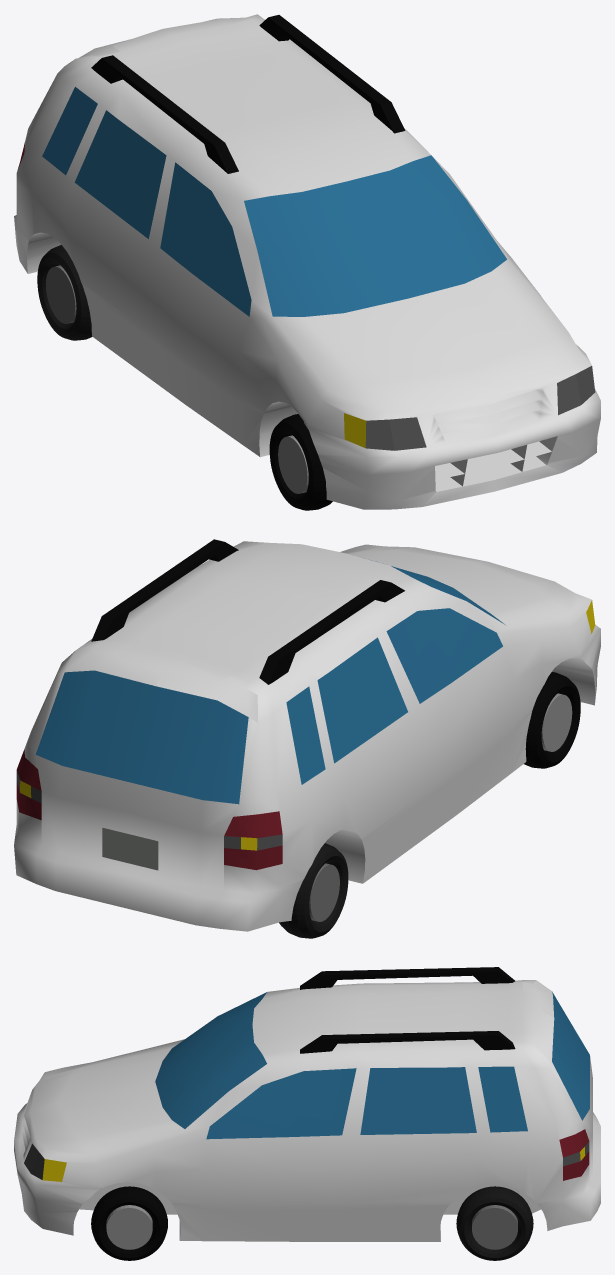
3 renders of one model, top to bottom at view 1: azimuth 30°, elevation 25°; view 2: azimuth 150°, elevation 25°; view 3: azimuth 270°, elevation 25°, orthographic. The views are drawn at different scales.
Visible parts, largest first — view 1: Body, Window, RoofRail, HeadLight, TFRT, TRRT, TFRC, TRRC; view 2: Body, Window, RoofRail, BLOFF, TFRT, TRRT, Plane.001, TFRC, TRRC, TailLight; view 3: Body, Window, RoofRail, TFLT, TRLT, TFLC, TRLC, BLOFF, WLLON, HeadLight.
Part boxes in pixels (<box>): Body: <box>14,14,600,509</box>; Window: <box>42,87,506,316</box>; RoofRail: <box>91,15,405,173</box>; HeadLight: <box>365,366,595,450</box>; TFRT: <box>269,414,332,510</box>; TRRT: <box>37,245,92,340</box>; TFRC: <box>278,435,308,493</box>; TRRC: <box>45,265,76,323</box>; Body: <box>14,541,600,931</box>; Window: <box>35,560,504,804</box>; RoofRail: <box>91,539,404,684</box>; BLOFF: <box>16,750,282,870</box>; TFRT: <box>524,672,580,768</box>; TRRT: <box>279,843,348,938</box>; Plane.001: <box>102,827,158,870</box>; TFRC: <box>541,693,572,751</box>; TRRC: <box>309,863,339,921</box>; TailLight: <box>16,770,282,850</box>; Body: <box>14,980,600,1241</box>; Window: <box>155,991,589,1139</box>; RoofRail: <box>300,967,515,1053</box>; TFLT: <box>91,1186,167,1260</box>; TRLT: <box>456,1186,533,1260</box>; TFLC: <box>106,1205,152,1249</box>; TRLC: <box>472,1205,517,1249</box>; BLOFF: <box>559,1129,589,1180</box>; WLLON: <box>42,1147,585,1181</box>; HeadLight: <box>24,1143,44,1179</box>.
Size of the model in its own units: 165 by 152 by 381.
